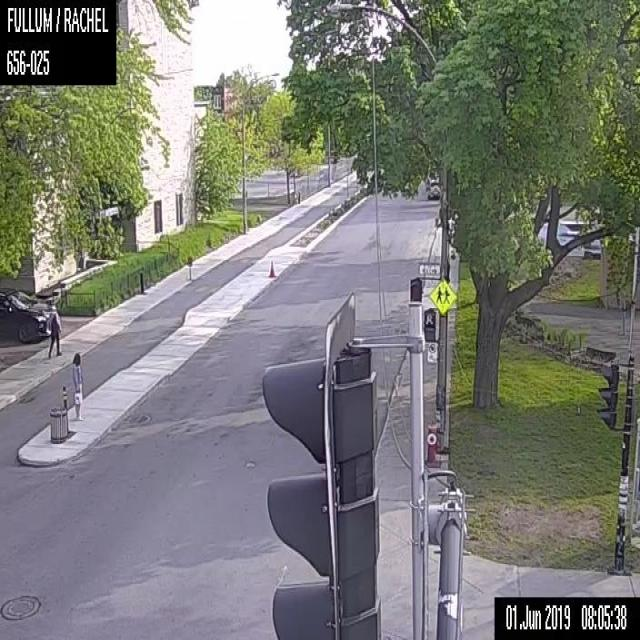construction: (268, 259, 275, 276)
pedestrian: (70, 352, 83, 419), (46, 304, 61, 356)
vehicle: (0, 288, 54, 344), (427, 180, 439, 199)
